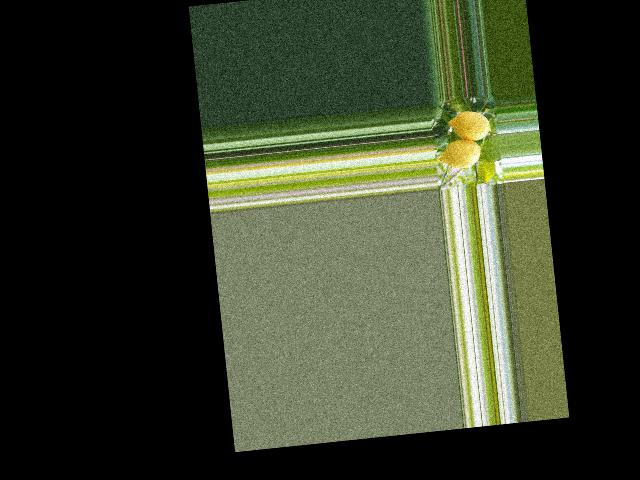lemon: (438, 135, 485, 173)
